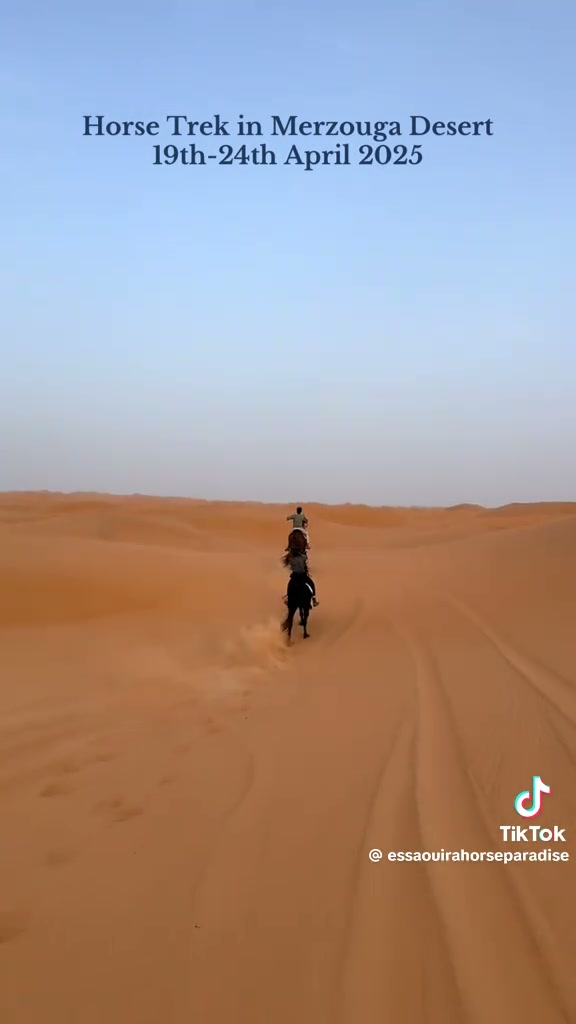animal: (281, 573, 311, 643), (286, 529, 307, 552)
vehicle_track: (343, 608, 558, 1023), (434, 567, 576, 742)
